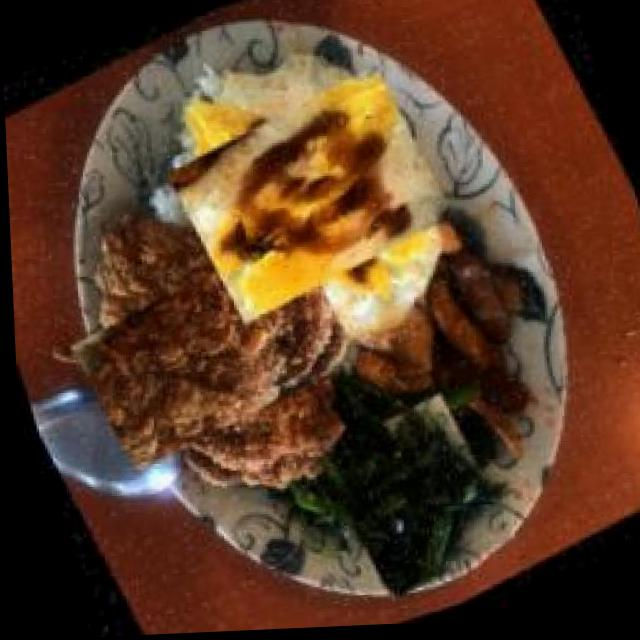fried_chicken: (68, 208, 355, 496)
fried_eggs: (159, 46, 457, 345)
water_spinach: (302, 391, 523, 611)
